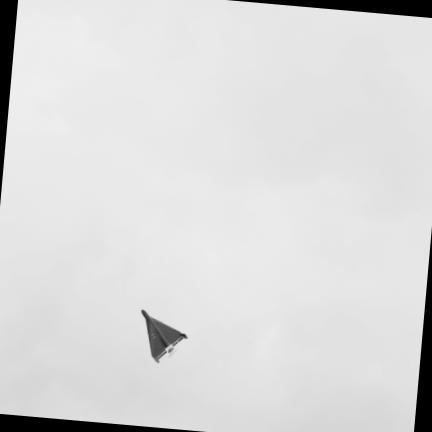Shahed: (142, 311, 186, 362)
